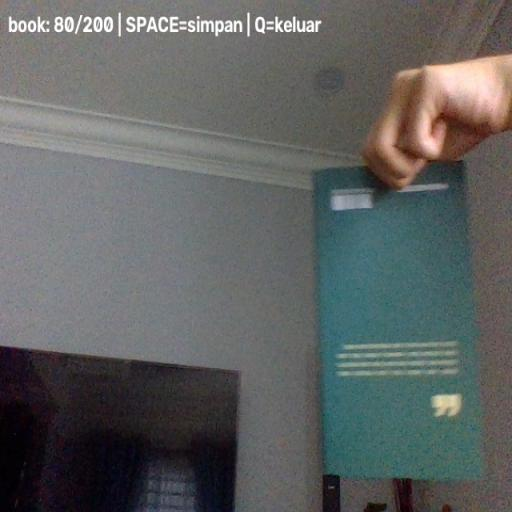Book: (313, 161, 484, 484)
